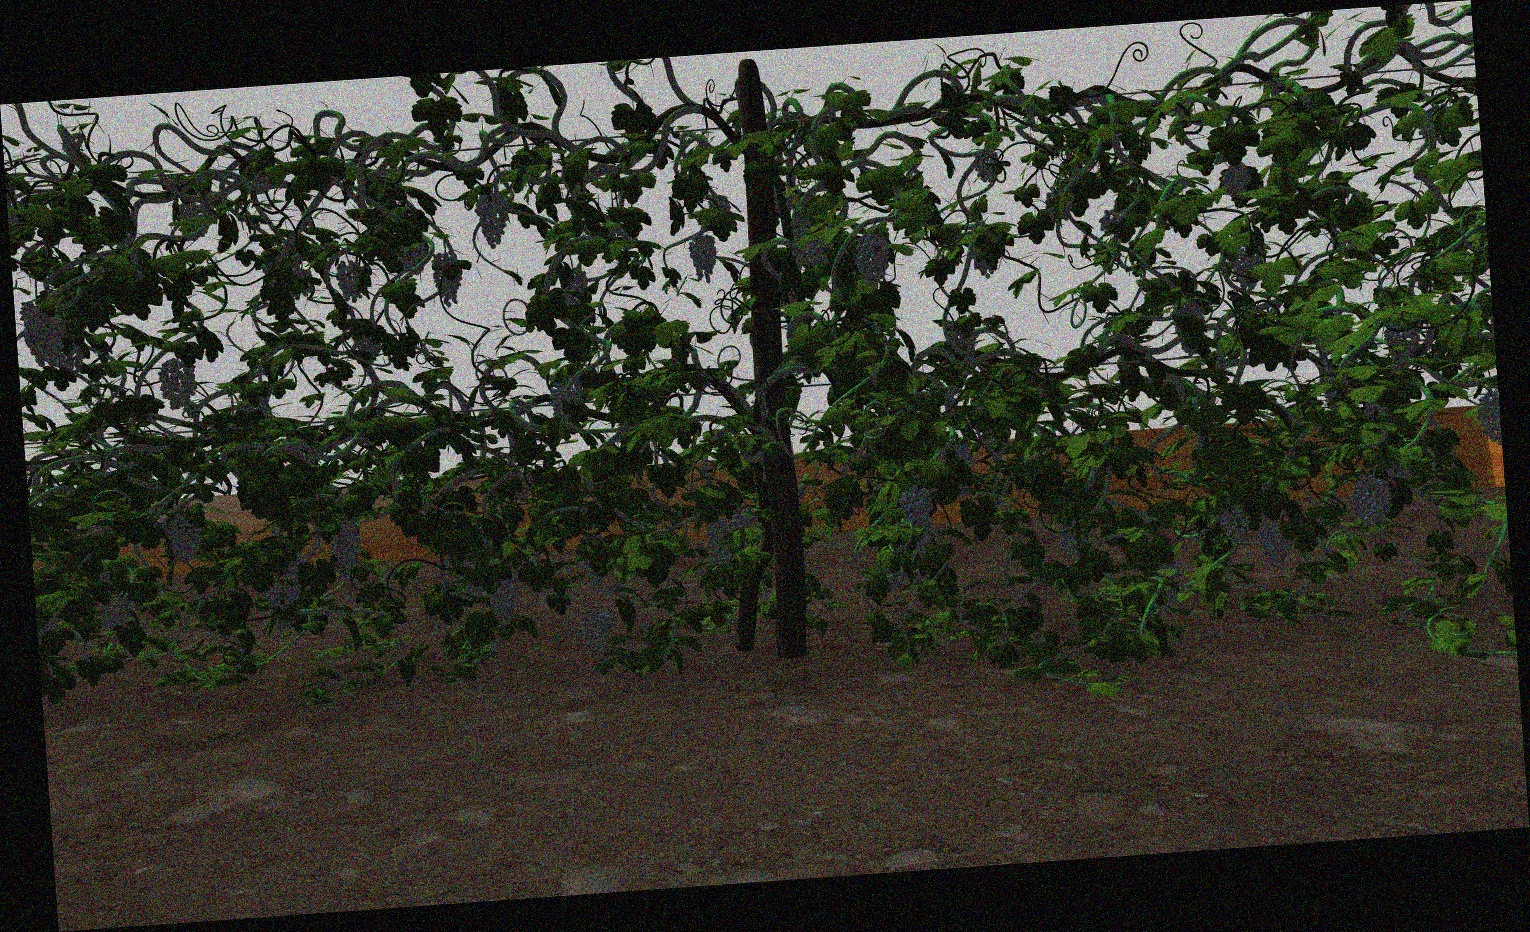grape: (20, 297, 66, 366), (901, 485, 935, 558), (1352, 472, 1393, 531), (328, 517, 363, 582), (157, 358, 199, 410), (473, 192, 511, 248), (854, 232, 891, 288), (162, 514, 202, 564), (1382, 317, 1424, 363), (432, 249, 464, 307), (579, 609, 614, 661), (489, 577, 520, 629), (1258, 520, 1292, 568), (549, 379, 584, 425), (688, 232, 719, 283), (97, 593, 133, 632), (336, 259, 367, 302), (1474, 393, 1498, 446), (706, 518, 735, 559), (1057, 522, 1087, 558), (264, 581, 302, 611), (1219, 508, 1251, 541), (1222, 162, 1252, 197), (399, 243, 429, 276), (975, 150, 1000, 182), (804, 237, 832, 267), (733, 506, 758, 535)
